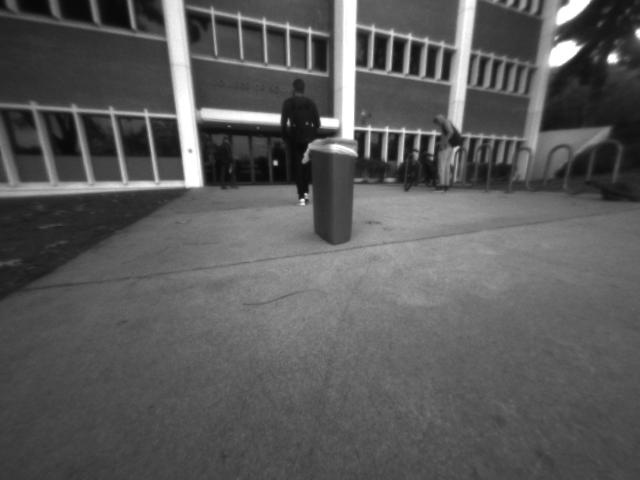trashcan_open: (302, 131, 364, 251)
